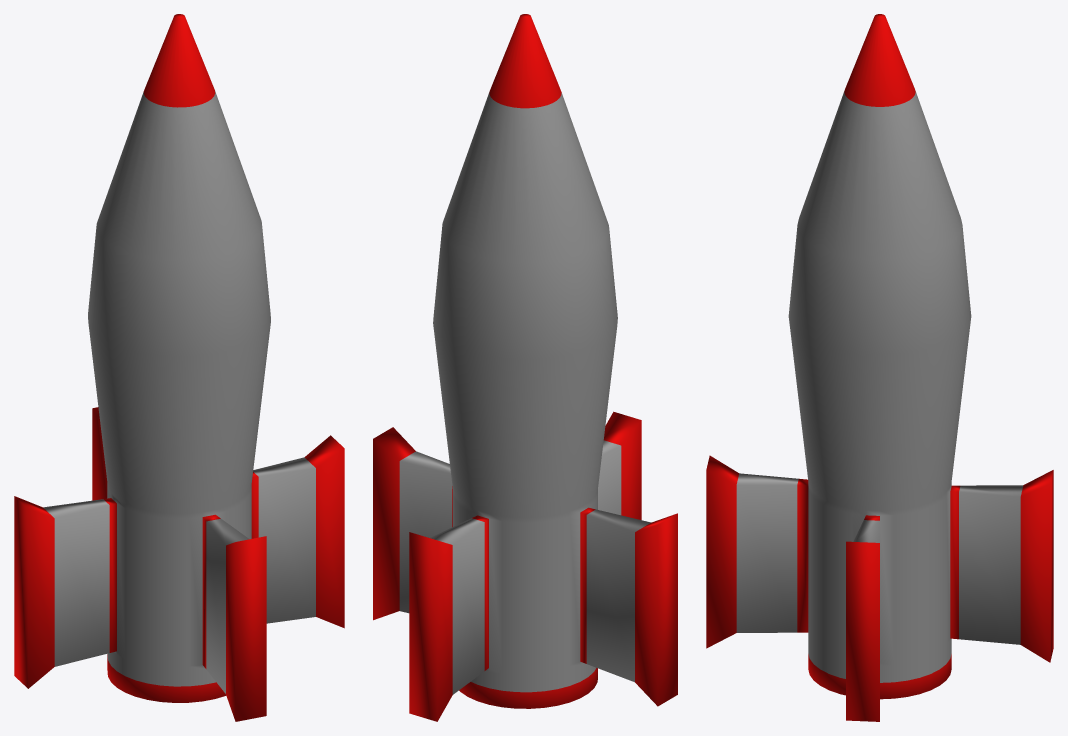
The model's file is rocket.fbx.
The picture shows the model from 3 angles, left to right: view 1: azimuth 30°, elevation 25°; view 2: azimuth 150°, elevation 25°; view 3: azimuth 270°, elevation 25°; orthographic projection.
Parts seen in each view (by area): view 1: Cylinder; view 2: Cylinder; view 3: Cylinder.
Boxes of the visible parts, x1,y1,x2,y2 form: Cylinder: [14, 14, 344, 721]; Cylinder: [373, 14, 677, 721]; Cylinder: [706, 14, 1053, 721].
Bounding box in the file's own units: 484 × 1003 × 484.
